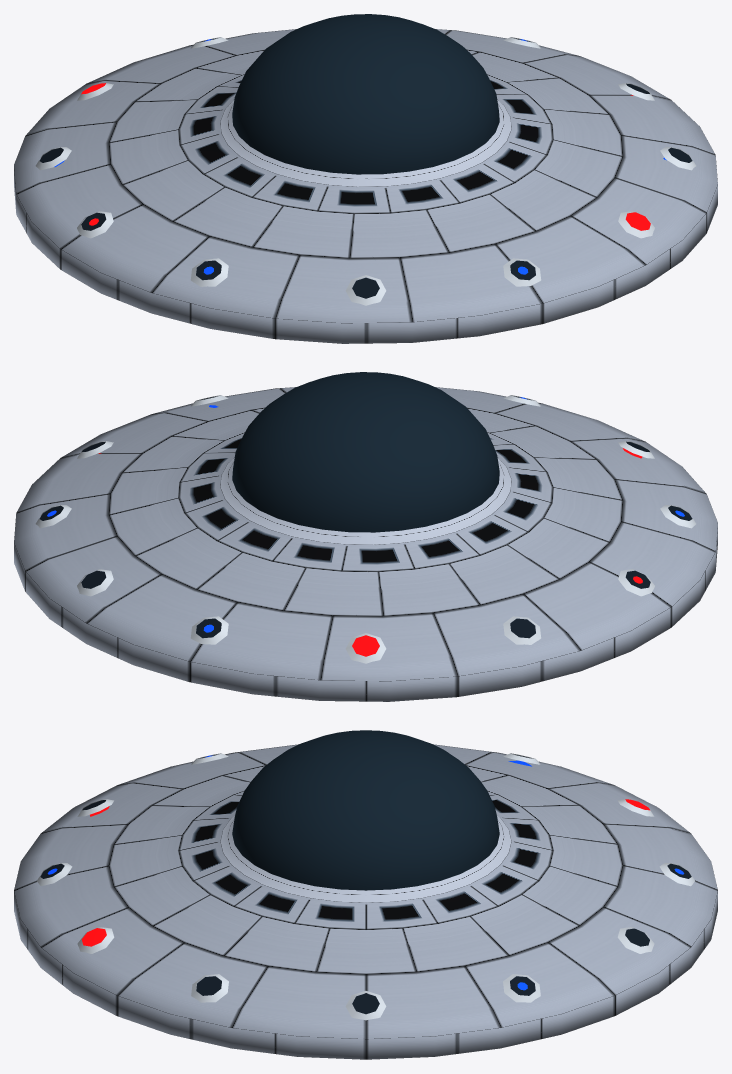
The model's file is ovni.glb.
The picture shows the model from 3 angles, top to bottom: view 1: azimuth 30°, elevation 25°; view 2: azimuth 150°, elevation 25°; view 3: azimuth 270°, elevation 25°; orthographic projection.
Visible parts, largest first — view 1: OVNI · Casco texturizado, OVNI · Cúpula, OVNI · Balizas; view 2: OVNI · Casco texturizado, OVNI · Cúpula, OVNI · Balizas; view 3: OVNI · Casco texturizado, OVNI · Cúpula, OVNI · Balizas.
Part boxes in pixels (box(x1,y1,x2,y2)): OVNI · Casco texturizado: box(14, 29, 717, 343); OVNI · Cúpula: box(232, 14, 499, 174); OVNI · Balizas: box(35, 37, 696, 305); OVNI · Casco texturizado: box(14, 387, 717, 701); OVNI · Cúpula: box(232, 372, 499, 532); OVNI · Balizas: box(35, 395, 696, 663); OVNI · Casco texturizado: box(14, 744, 717, 1059); OVNI · Cúpula: box(232, 730, 499, 890); OVNI · Balizas: box(37, 753, 694, 1020).
Size of the model in its own units: 12.1 by 4.2 by 12.1.
6 materials, 1 textured.
